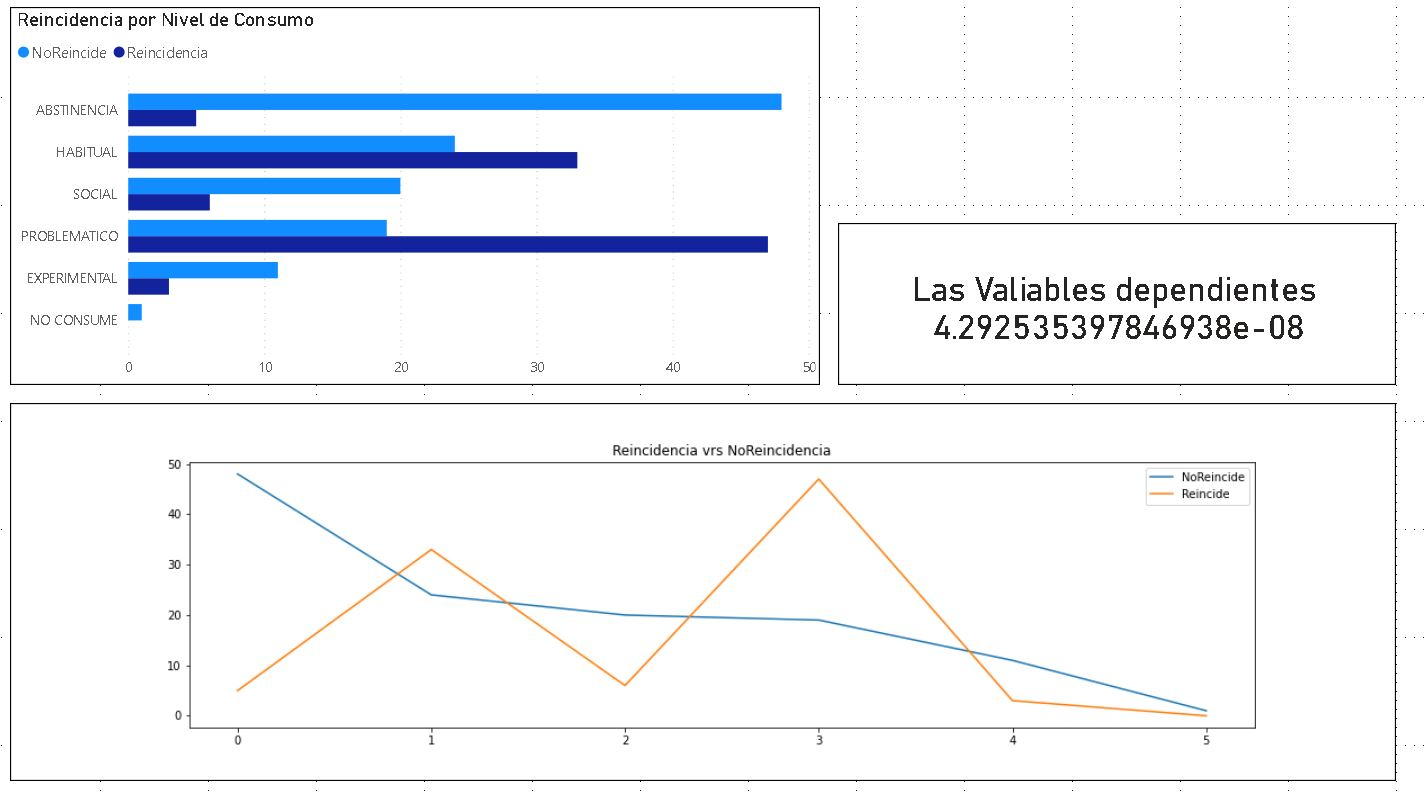

The page's visual inventory and layout, read from the dashboard file:
{"tool":"powerbi","page":{"name":"RelacionConsumoDrogasReincidencia","canvas":[1280,720],"ordinal":6},"visuals":[{"type":"pythonVisual","fields":{"Values":["Sum(CSV_Visualizacion8ChiQuadrado.NoReincide)","Sum(CSV_Visualizacion8ChiQuadrado.Reincidencia)","CSV_Visualizacion8ChiQuadrado.niv_consu"]},"box":[16,368,1232,336],"z":0},{"type":"clusteredBarChart","title":"Reincidencia por Nivel de Consumo","fields":{"Category":["CSV_Visualizacion8ChiQuadrado.niv_consu"],"Y":["Sum(CSV_Visualizacion8ChiQuadrado.NoReincide)","Sum(CSV_Visualizacion8ChiQuadrado.Reincidencia)"]},"box":[16,16,720,336],"z":1000},{"type":"card","fields":{"Values":["Min(CSV_Visualizacion8.p-valor)"]},"box":[752,208,496,144],"z":2000}]}

Visuals, with their boxes in screenshot pixels (x1, y1, x2, y2), scaled from the page's 1280x720 canvas onto the 1426x799 screenshot:
pythonVisual - Sum(CSV_Visualizacion8ChiQuadrado.NoReincide) x Sum(CSV_Visualizacion8ChiQuadrado.Reincidencia): (18, 408, 1390, 781)
"Reincidencia por Nivel de Consumo" clusteredBarChart: (18, 18, 820, 391)
card - Min(CSV_Visualizacion8.p-valor): (838, 231, 1390, 391)
